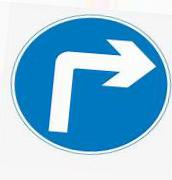right: (11, 13, 172, 155)
